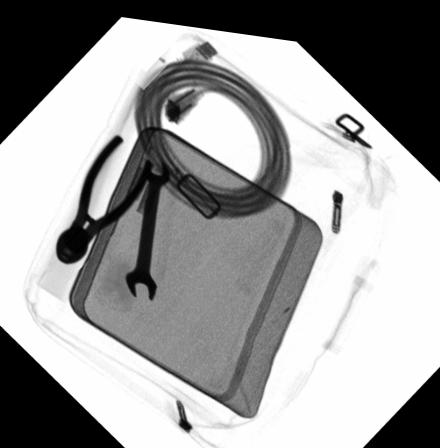Pliers: (54, 127, 154, 262)
Wrench: (123, 153, 169, 296)
